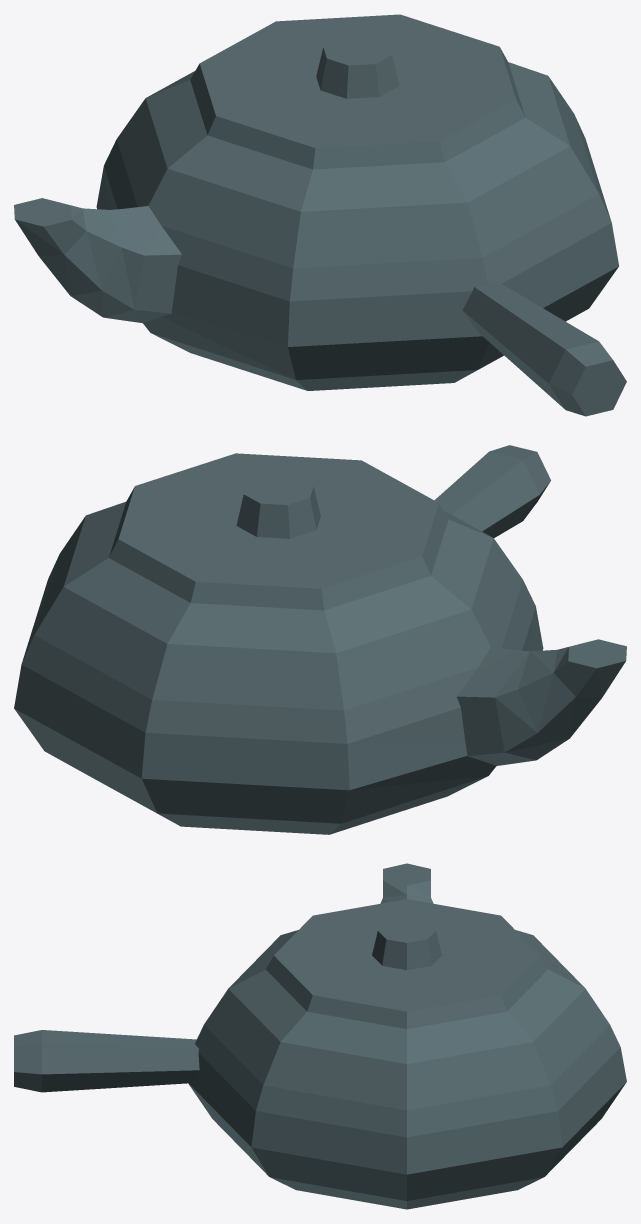
The model's file is Asian_Prop_Tea_Pot_02.FBX.
The picture shows the model from 3 angles, top to bottom: view 1: azimuth 30°, elevation 25°; view 2: azimuth 150°, elevation 25°; view 3: azimuth 270°, elevation 25°; orthographic projection. The views are drawn at different scales.
Visible parts, largest first — view 1: Asian_Prop_Tea_Pot_02; view 2: Asian_Prop_Tea_Pot_02; view 3: Asian_Prop_Tea_Pot_02.
Part boxes in pixels (<box>): Asian_Prop_Tea_Pot_02: <box>14,14,626,416</box>; Asian_Prop_Tea_Pot_02: <box>14,445,626,834</box>; Asian_Prop_Tea_Pot_02: <box>14,863,626,1209</box>.
Bounding box in the file's own units: 274 × 119 × 310.
